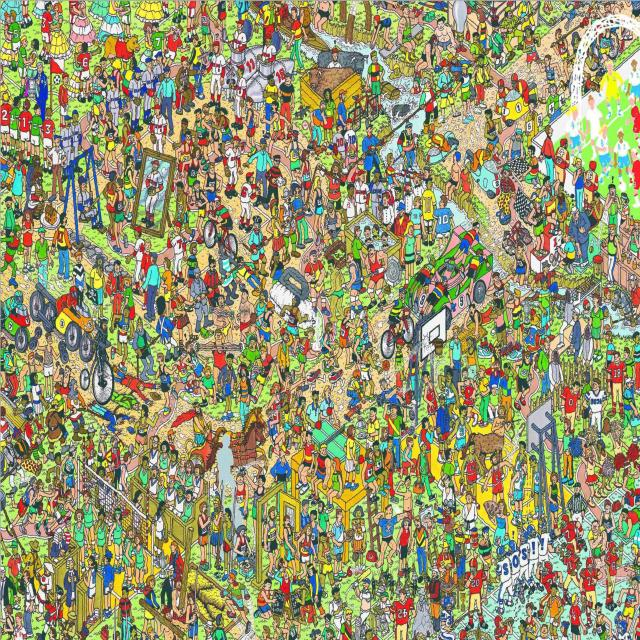waldo: (63, 515, 72, 531)
